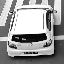motor: (17, 7, 47, 54)
